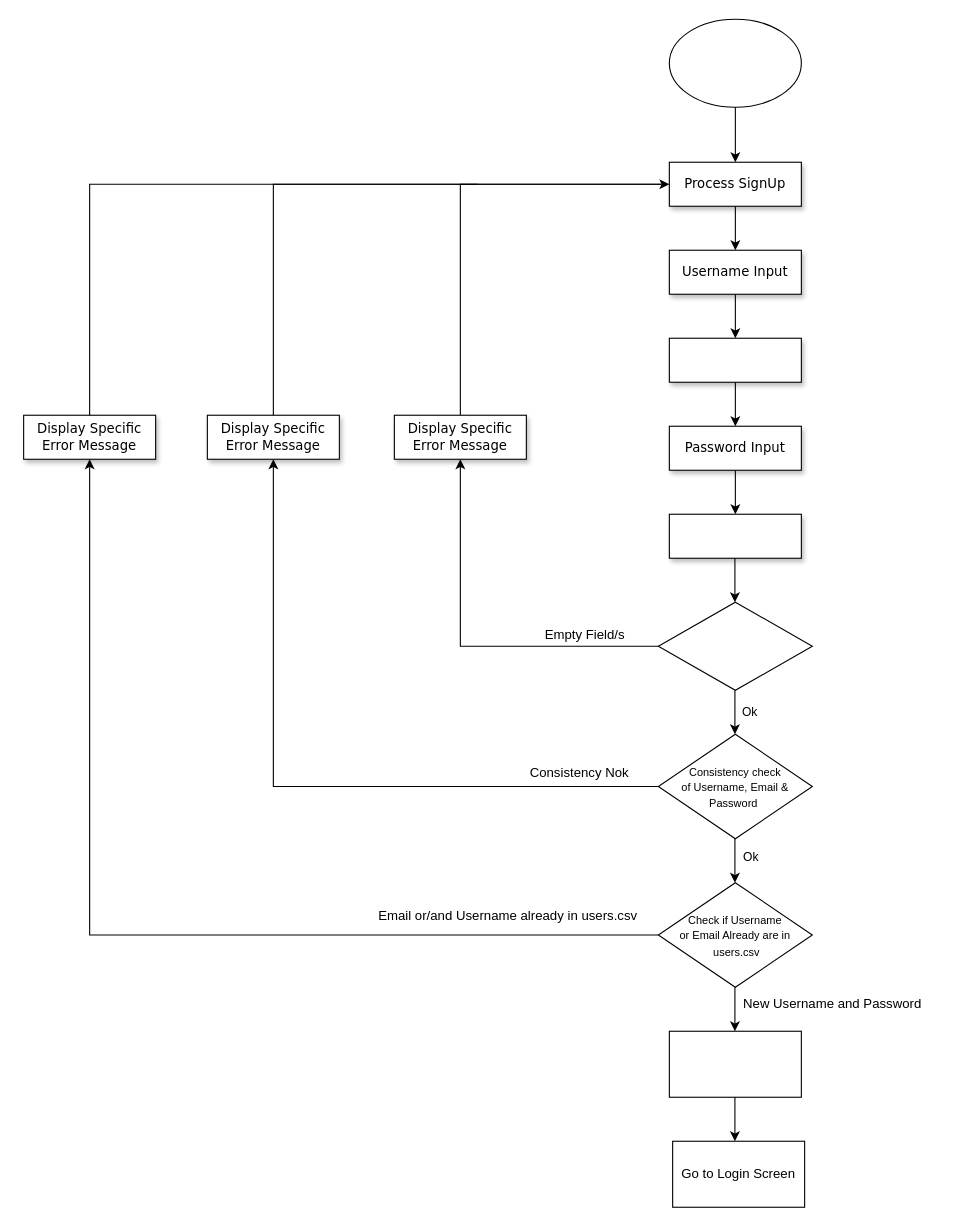
The diagram is 956 pixels wide and 1227 high, and some of its shapes have lost their labels. The shapes that lost their labels are listed below. From the top down, each one's centre as x and y in pixels, then its label:
pixel 734 62: Start
pixel 736 361: Email Input
pixel 736 537: SignUp Button
pixel 734 645: Check if all Fields where Filled
pixel 734 1063: Write Username, Email & Password to users.csv
